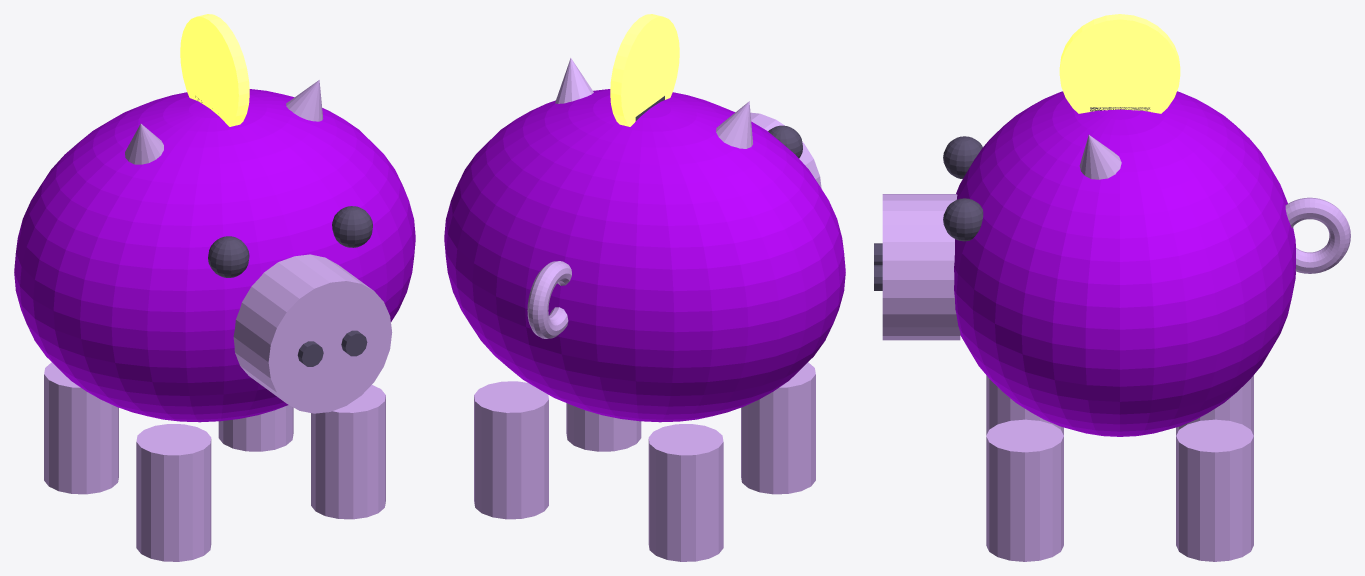
Rendered from piggybank.glb.
3 views of the same model, side by side, from view 1: azimuth 30°, elevation 25°; view 2: azimuth 150°, elevation 25°; view 3: azimuth 270°, elevation 25° (orthographic). The views are drawn at different scales.
Visible parts, largest first — view 1: Sphere, Cylinder, Cylinder.003, Cylinder.005, Cylinder.004, Cylinder.007, Cylinder.006, Sphere.001, Sphere.002, Cone, Cone.001, Cylinder.002 (+1 smaller); view 2: Sphere, Cylinder.004, Cylinder.006, Cylinder.003, Cylinder.007, Cylinder.005, Torus, Cone, Cone.001, Cylinder, Sphere.001; view 3: Sphere, Cylinder, Cylinder.005, Cylinder.006, Cylinder.007, Torus, Cylinder.003, Cylinder.004, Sphere.002, Cone.001, Sphere.001.
Part boxes in pixels (bbox=[...]): Sphere: bbox=[14, 89, 415, 422]; Cylinder: bbox=[233, 254, 392, 413]; Cylinder.003: bbox=[136, 424, 211, 561]; Cylinder.005: bbox=[311, 385, 385, 519]; Cylinder.004: bbox=[44, 362, 118, 494]; Cylinder.007: bbox=[180, 14, 249, 126]; Cylinder.006: bbox=[218, 405, 293, 451]; Sphere.001: bbox=[208, 236, 249, 277]; Sphere.002: bbox=[332, 206, 372, 247]; Cone: bbox=[125, 123, 163, 164]; Cone.001: bbox=[286, 80, 323, 121]; Cylinder.002: bbox=[341, 330, 367, 356]; Sphere: bbox=[444, 89, 845, 422]; Cylinder.004: bbox=[648, 424, 723, 561]; Cylinder.006: bbox=[474, 381, 548, 519]; Cylinder.003: bbox=[741, 362, 815, 494]; Cylinder.007: bbox=[610, 14, 679, 126]; Cylinder.005: bbox=[566, 403, 641, 451]; Torus: bbox=[527, 261, 571, 338]; Cone: bbox=[716, 101, 752, 148]; Cone.001: bbox=[555, 58, 593, 103]; Cylinder: bbox=[750, 112, 821, 188]; Sphere.001: bbox=[768, 125, 802, 158]; Sphere: bbox=[954, 91, 1295, 436]; Cylinder: bbox=[882, 194, 960, 340]; Cylinder.005: bbox=[986, 419, 1063, 561]; Cylinder.006: bbox=[1176, 419, 1253, 561]; Cylinder.007: bbox=[1059, 14, 1180, 113]; Torus: bbox=[1285, 197, 1350, 273]; Cylinder.003: bbox=[986, 375, 1063, 435]; Cylinder.004: bbox=[1176, 375, 1253, 435]; Sphere.002: bbox=[943, 198, 983, 241]; Cone.001: bbox=[1079, 135, 1121, 179]; Sphere.001: bbox=[943, 136, 982, 178].
Size of the model in its own units: 1 by 1.24 by 1.11.
